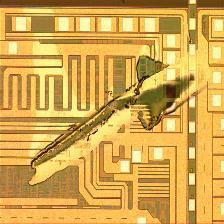BLOCK ETCH: (28, 39, 224, 190)
